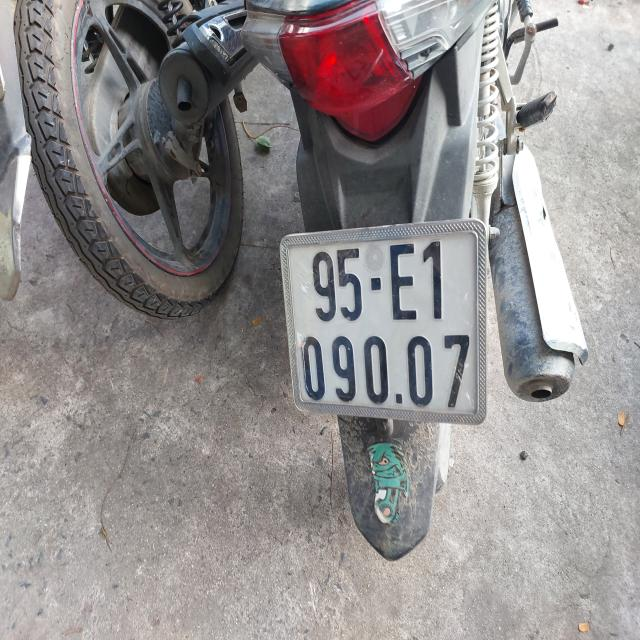0: (406, 331, 435, 410), (298, 330, 328, 400), (363, 331, 389, 402)
1: (421, 240, 450, 323)
5: (336, 246, 366, 326)
7: (442, 329, 470, 411)
9: (328, 333, 360, 404), (310, 251, 336, 323)
E: (390, 242, 418, 320)
